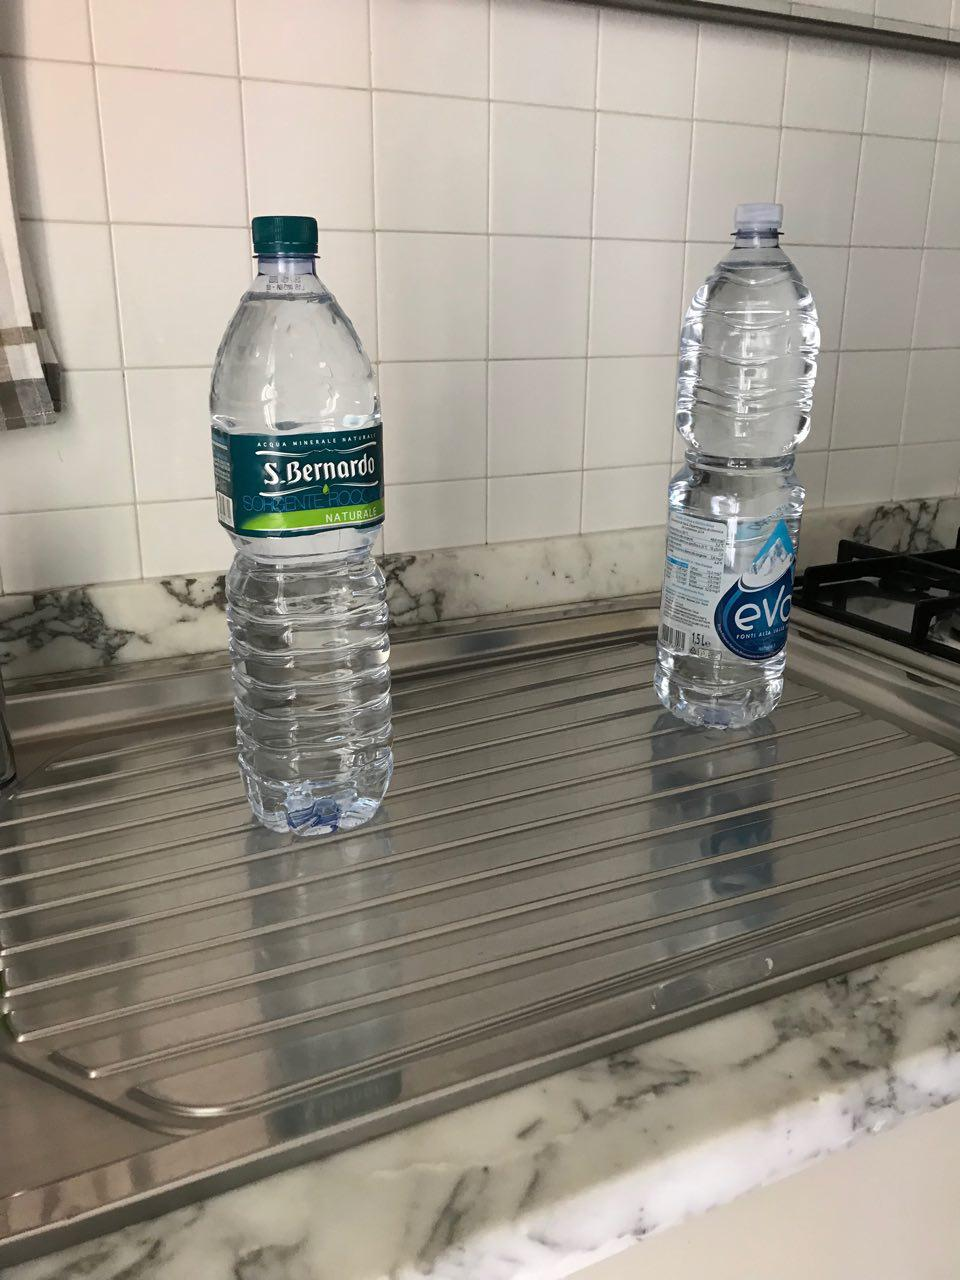san_bernardo: (208, 214, 396, 838)
